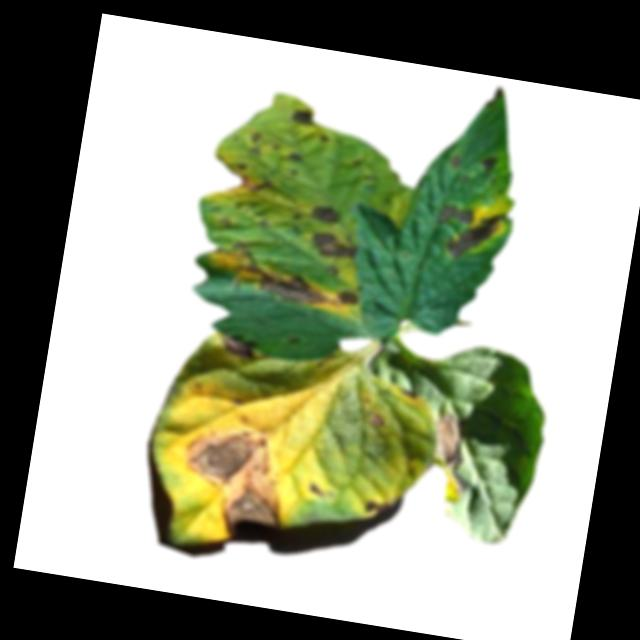Early_blight: (168, 415, 297, 546), (234, 252, 336, 310), (422, 411, 473, 505), (446, 205, 503, 263), (307, 229, 361, 264), (216, 331, 258, 362), (362, 487, 403, 517), (436, 200, 475, 229), (304, 199, 341, 227), (237, 172, 274, 195), (288, 104, 318, 126), (335, 285, 360, 307), (303, 477, 326, 497), (365, 407, 385, 428), (478, 153, 498, 170), (448, 152, 463, 170), (245, 129, 263, 144)
